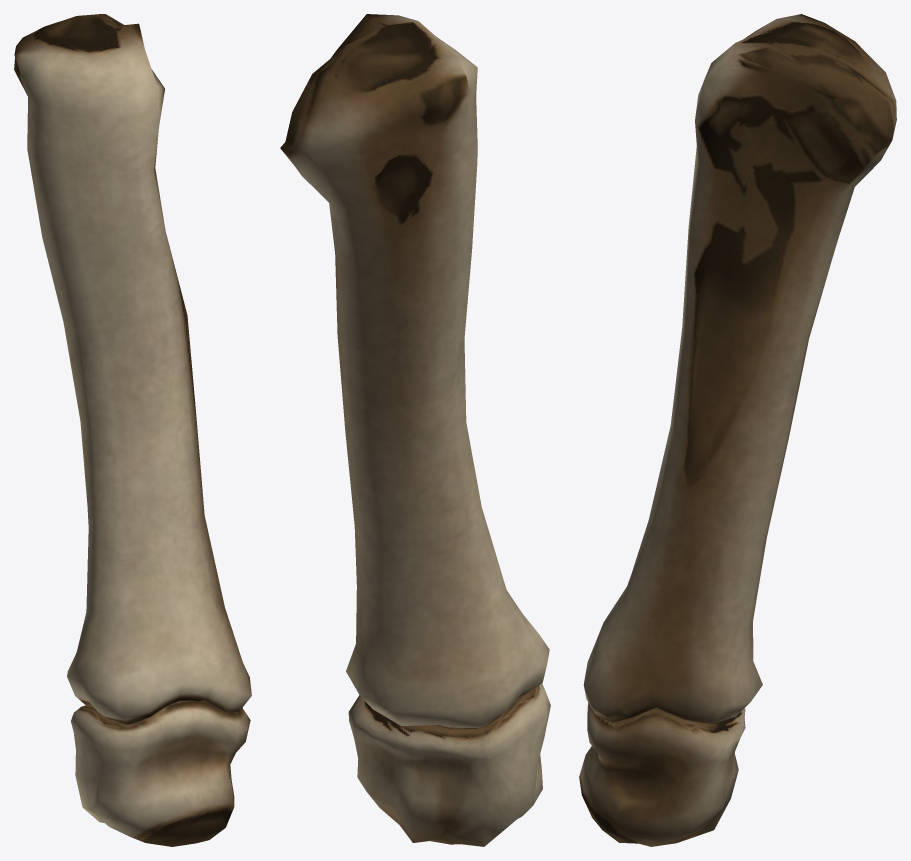
Rendered from Metacarpal_II.glb.
3 renders of one model, left to right at view 1: azimuth 30°, elevation 25°; view 2: azimuth 150°, elevation 25°; view 3: azimuth 270°, elevation 25°, orthographic. The views are drawn at different scales.
Parts seen in each view (by area): view 1: Metacarpal_II_Left1:Group25715; view 2: Metacarpal_II_Left1:Group25715; view 3: Metacarpal_II_Left1:Group25715.
Part boxes in pixels (x1,y1,x2,y2): Metacarpal_II_Left1:Group25715: [14, 14, 251, 846]; Metacarpal_II_Left1:Group25715: [280, 14, 550, 846]; Metacarpal_II_Left1:Group25715: [579, 14, 896, 846].
Bounding box in the file's own units: 9.94 × 48.66 × 17.51.
1 material, 1 textured.
